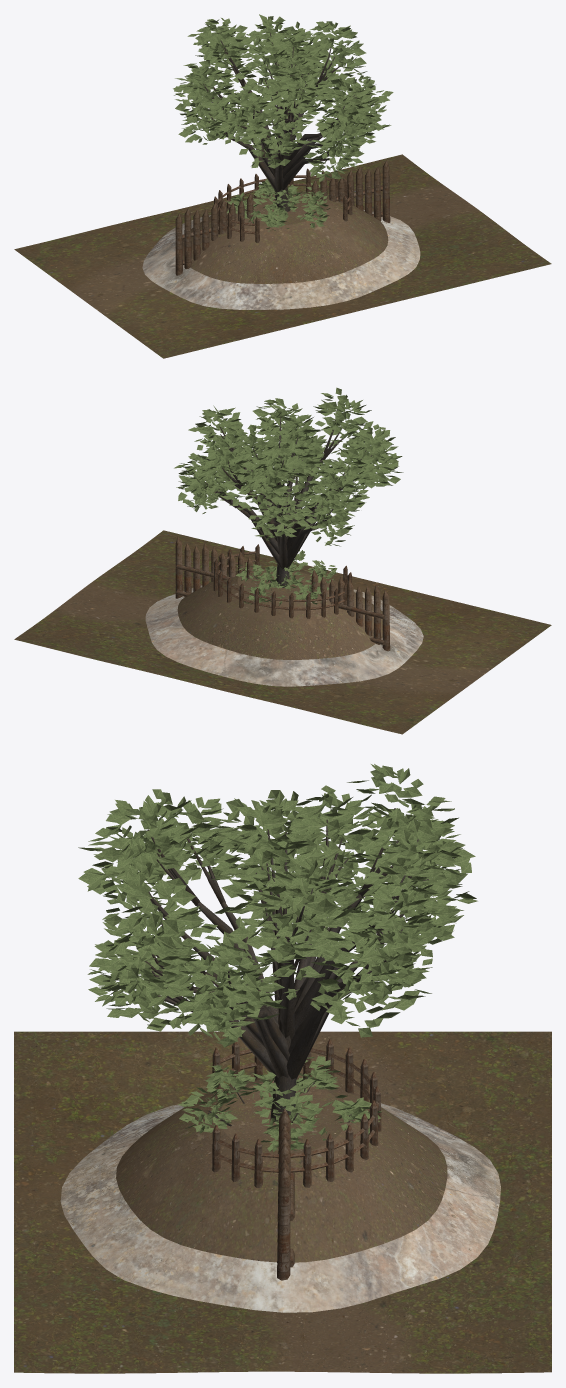
Rendered from stage01_assets.glb.
3 renders of one model, top to bottom at view 1: azimuth 30°, elevation 25°; view 2: azimuth 150°, elevation 25°; view 3: azimuth 270°, elevation 25°, orthographic. The views are drawn at different scales.
Parts seen in each view (by area): view 1: GroundSample_Surfaces, FiringPad_Surfaces, Broadleaf_C_Surfaces, Broadleaf_A_Surfaces, Broadleaf_B_Surfaces, Palisade_Surfaces, Shrub_B_Surfaces; view 2: GroundSample_Surfaces, FiringPad_Surfaces, Broadleaf_C_Surfaces, Broadleaf_A_Surfaces, Broadleaf_B_Surfaces, Palisade_Surfaces, Shrub_B_Surfaces; view 3: GroundSample_Surfaces, FiringPad_Surfaces, Broadleaf_C_Surfaces, Broadleaf_A_Surfaces, Broadleaf_B_Surfaces, Shrub_B_Surfaces, Palisade_Surfaces.
Part boxes in pixels (x1,y1,x2,y2): GroundSample_Surfaces: (14,154,551,358); FiringPad_Surfaces: (142,168,420,309); Broadleaf_C_Surfaces: (187,14,374,211); Broadleaf_A_Surfaces: (173,21,386,177); Broadleaf_B_Surfaces: (178,39,393,208); Palisade_Surfaces: (175,160,390,275); Shrub_B_Surfaces: (225,179,330,231); GroundSample_Surfaces: (14,530,551,734); FiringPad_Surfaces: (145,544,423,686); Broadleaf_C_Surfaces: (188,387,378,586); Broadleaf_A_Surfaces: (174,414,401,582); Broadleaf_B_Surfaces: (178,422,403,587); Palisade_Surfaces: (175,537,390,651); Shrub_B_Surfaces: (236,550,337,606); GroundSample_Surfaces: (14,1031,551,1373); FiringPad_Surfaces: (60,1039,500,1312); Broadleaf_C_Surfaces: (95,764,451,1121); Broadleaf_A_Surfaces: (87,785,476,1060); Broadleaf_B_Surfaces: (78,832,477,1107); Shrub_B_Surfaces: (178,1056,382,1151); Palisade_Surfaces: (277,1109,294,1280).
Size of the model in its own units: 6 by 3.36 by 4.
6 materials, 6 textured.
